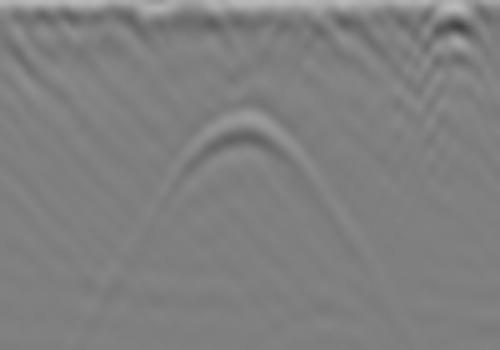hyperbola: (154, 103, 325, 220)
